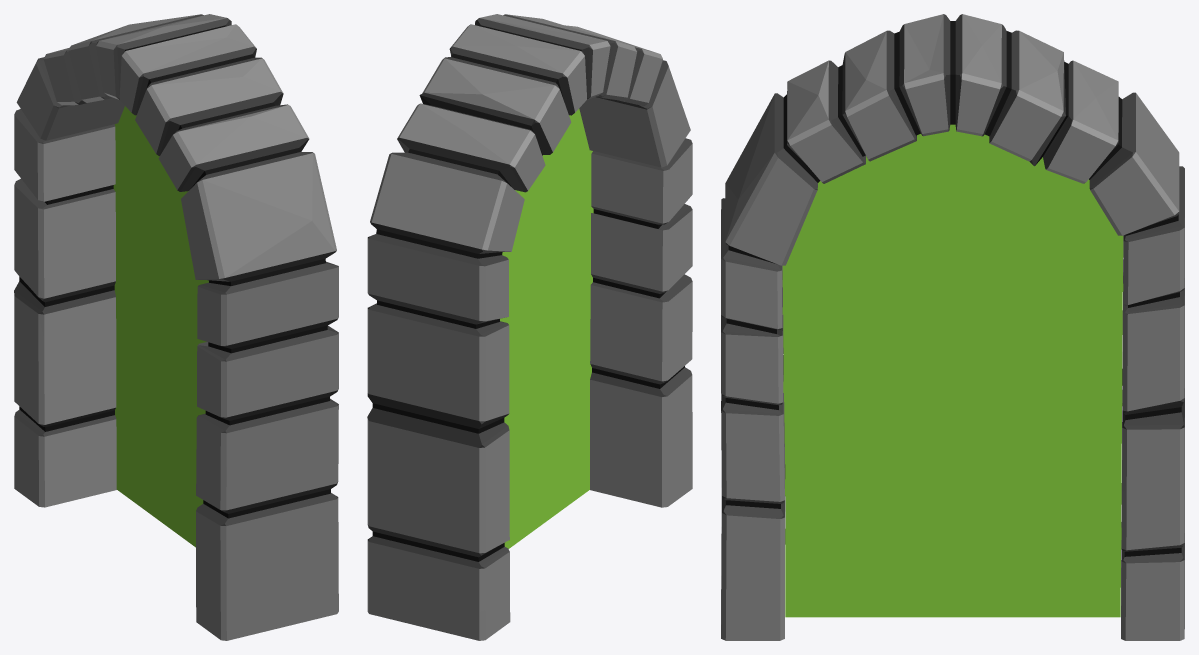
File: portalGreen 1.fbx
3 views of the same model, side by side, from view 1: azimuth 30°, elevation 25°; view 2: azimuth 150°, elevation 25°; view 3: azimuth 270°, elevation 25° (orthographic). The views are drawn at different scales.
Parts seen in each view (by area): view 1: PortalGreen; view 2: PortalGreen; view 3: PortalGreen.
Boxes of the visible parts, left/top/right/bottom form: PortalGreen: left=14, top=14, right=338, bottom=640; PortalGreen: left=367, top=14, right=692, bottom=640; PortalGreen: left=721, top=14, right=1184, bottom=640.
Size of the model in its own units: 91.77 by 382 by 284.
